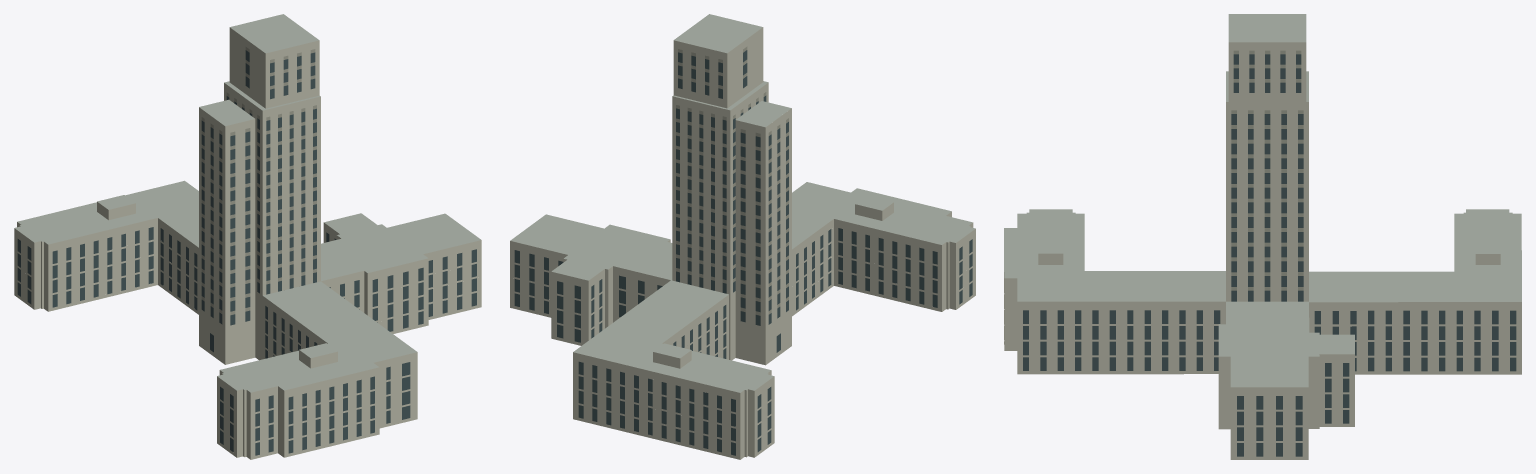
The model's file is walter-reed-tower-bethesda-near.glb.
3 views of the same model, side by side, from view 1: azimuth 30°, elevation 25°; view 2: azimuth 150°, elevation 25°; view 3: azimuth 270°, elevation 25° (orthographic). The views are drawn at different scales.
Visible parts, largest first — view 1: walter-reed-tower-bethesda-0-stone, walter-reed-tower-bethesda-0-roof, walter-reed-tower-bethesda-0-glass, walter-reed-tower-bethesda-0-spandrel; view 2: walter-reed-tower-bethesda-0-stone, walter-reed-tower-bethesda-0-roof, walter-reed-tower-bethesda-0-glass, walter-reed-tower-bethesda-0-spandrel; view 3: walter-reed-tower-bethesda-0-stone, walter-reed-tower-bethesda-0-roof, walter-reed-tower-bethesda-0-glass, walter-reed-tower-bethesda-0-spandrel.
Boxes of the visible parts, x1,y1,x2,y2 form: walter-reed-tower-bethesda-0-stone: [14, 27, 481, 459]; walter-reed-tower-bethesda-0-roof: [14, 14, 480, 392]; walter-reed-tower-bethesda-0-glass: [17, 50, 476, 455]; walter-reed-tower-bethesda-0-spandrel: [201, 47, 316, 315]; walter-reed-tower-bethesda-0-stone: [510, 27, 975, 459]; walter-reed-tower-bethesda-0-roof: [510, 14, 975, 392]; walter-reed-tower-bethesda-0-glass: [514, 50, 972, 455]; walter-reed-tower-bethesda-0-spandrel: [676, 46, 788, 315]; walter-reed-tower-bethesda-0-stone: [1004, 42, 1521, 459]; walter-reed-tower-bethesda-0-roof: [1004, 14, 1521, 387]; walter-reed-tower-bethesda-0-glass: [1023, 54, 1516, 456]; walter-reed-tower-bethesda-0-spandrel: [1231, 50, 1303, 290].
Bounding box in the file's own units: 92.69 × 80.46 × 114.
